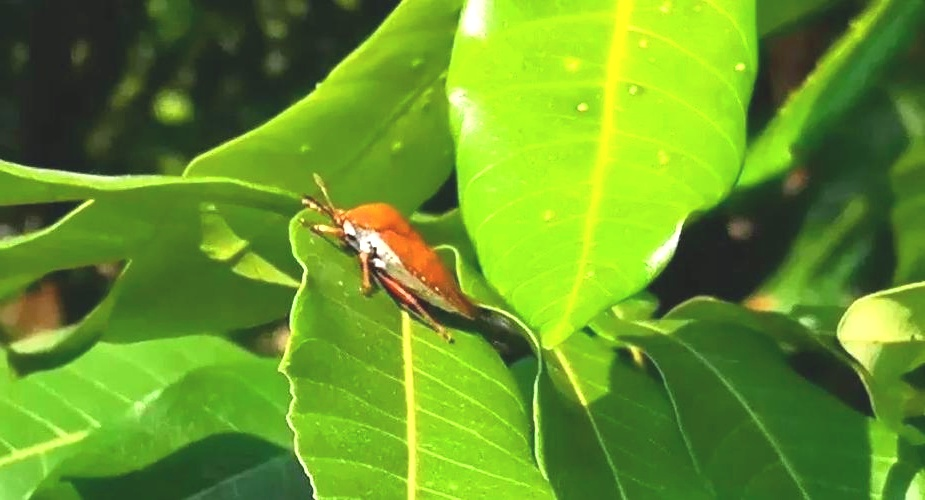Stink_Bug: (333, 183, 458, 312)
